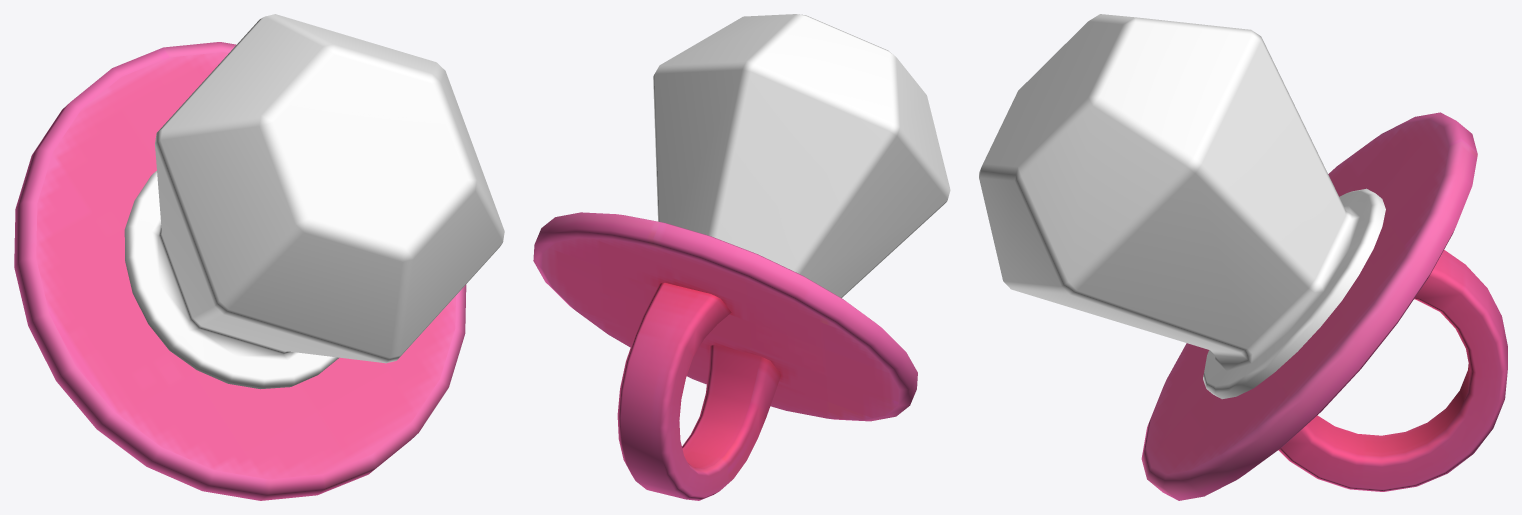
The model's file is ref_gtringcandy.fbx.
3 renders of one model, left to right at view 1: azimuth 30°, elevation 25°; view 2: azimuth 150°, elevation 25°; view 3: azimuth 270°, elevation 25°, orthographic. The views are drawn at different scales.
Visible parts, largest first — view 1: ref_gtringcandy; view 2: ref_gtringcandy; view 3: ref_gtringcandy.
Boxes of the visible parts, left/top/right/bottom form: ref_gtringcandy: left=14, top=14, right=504, bottom=500; ref_gtringcandy: left=533, top=14, right=950, bottom=500; ref_gtringcandy: left=979, top=14, right=1507, bottom=500.
Bounding box in the file's own units: 89.76 × 96.2 × 100.
1 material, 1 textured.
